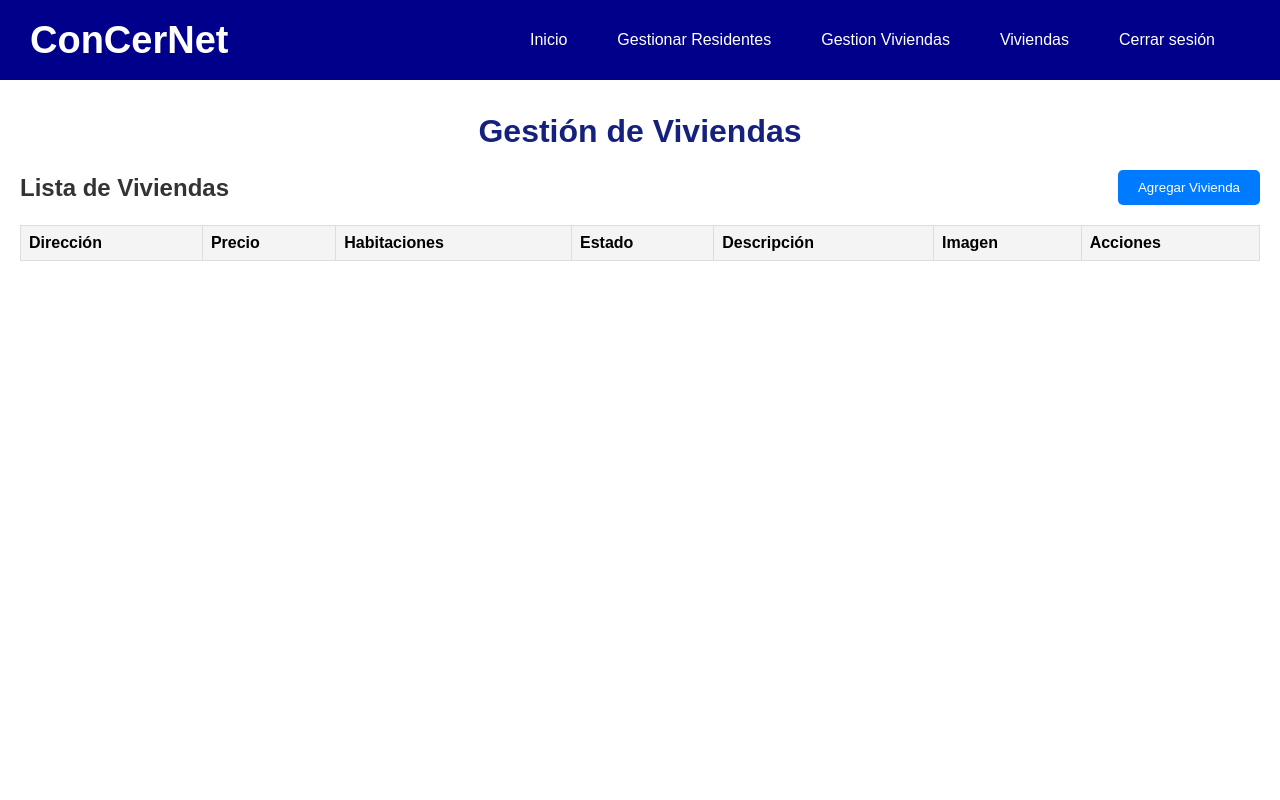
Pruebas unitarias para Gestión de Viviendas › Debe mostrar un error si el precio no es válido
The image size is (1280, 800).
Click the button "Agregar Vivienda": (1189, 188) [1118,170,1260,205]
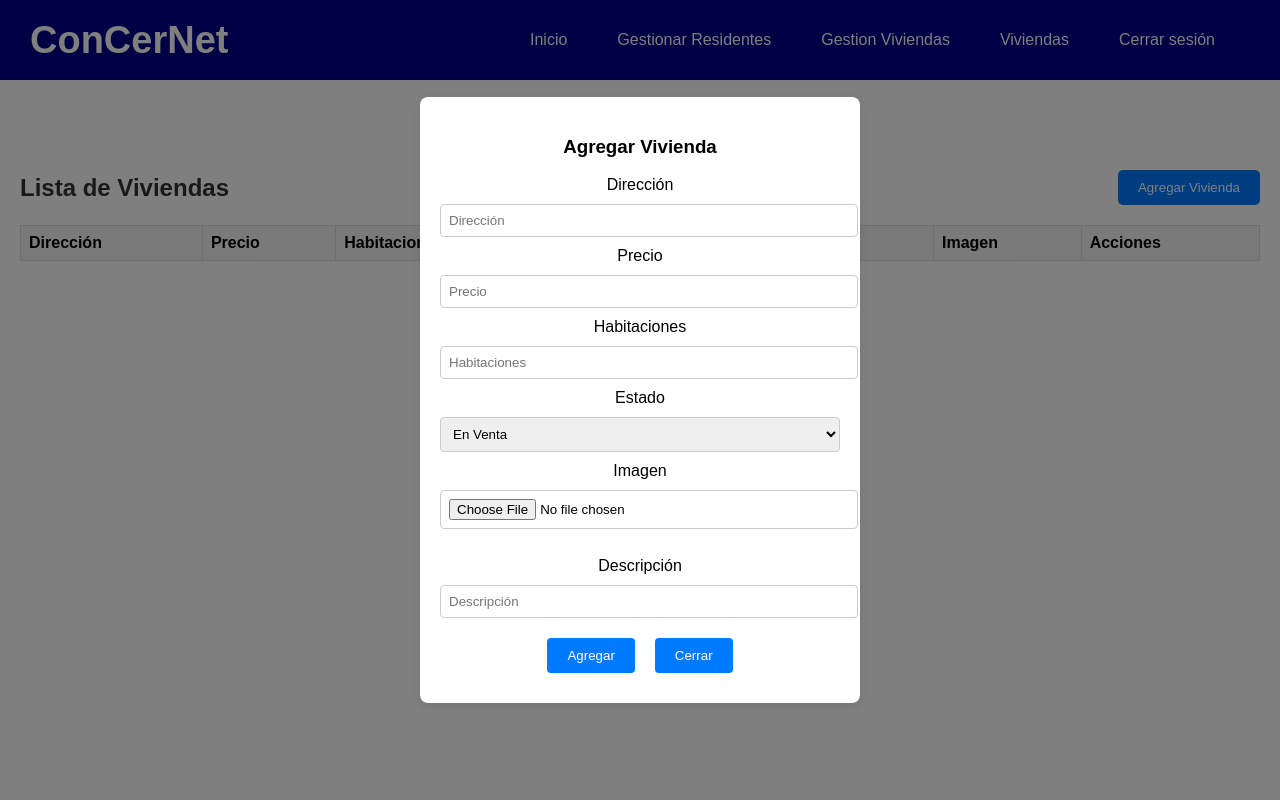
In the field with placeholder "Precio": (649, 292) [440,275,858,308], type "abc"
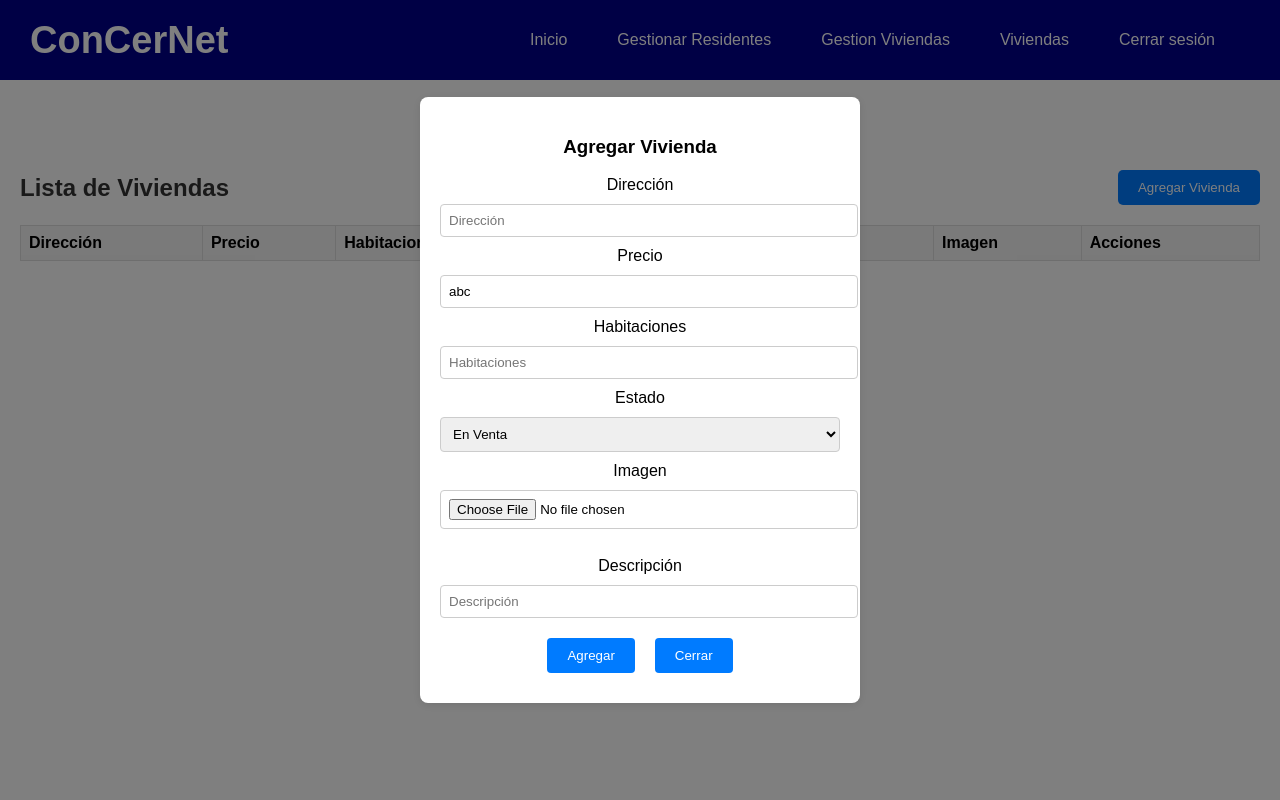
Leave the field with placeholder "Precio", box [440,275,858,308]
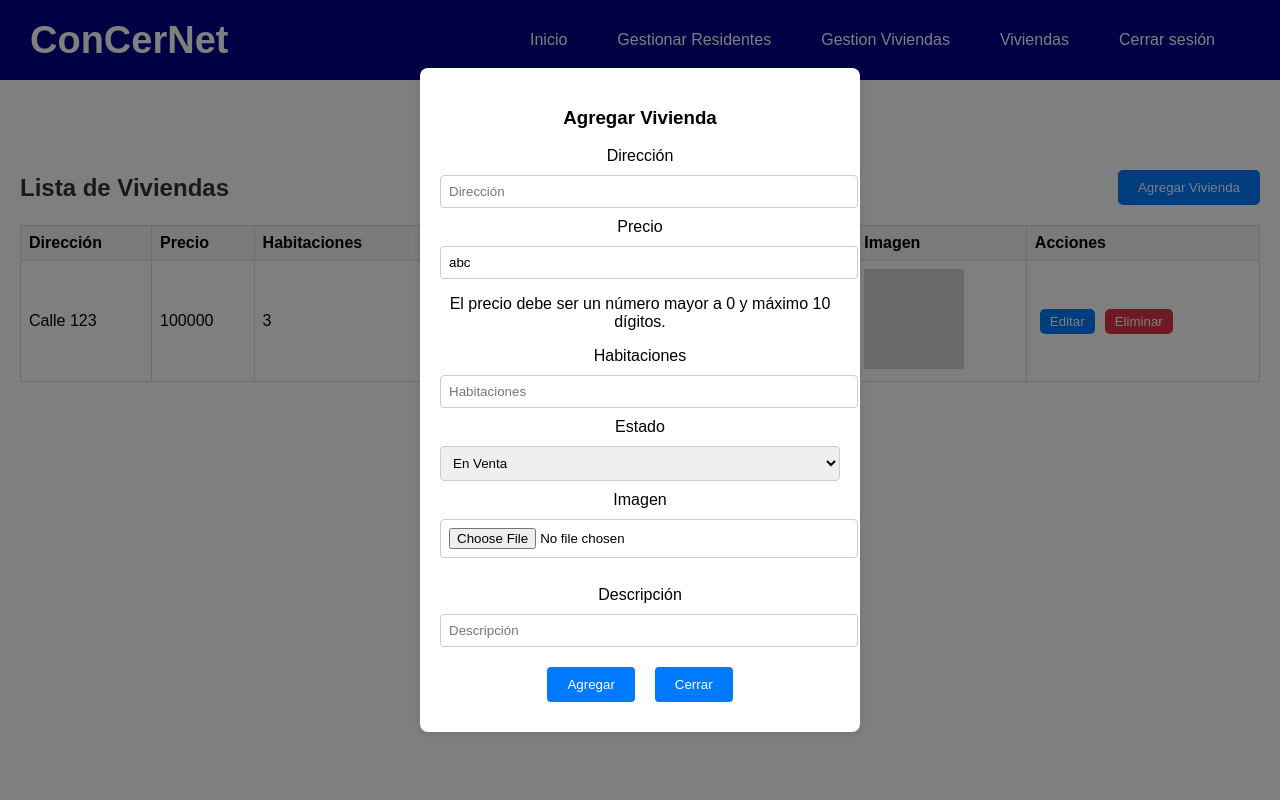
Result: the text "El precio debe ser un número mayor a 0 y máximo 10 dígitos." is shown at [440,295,840,331]
